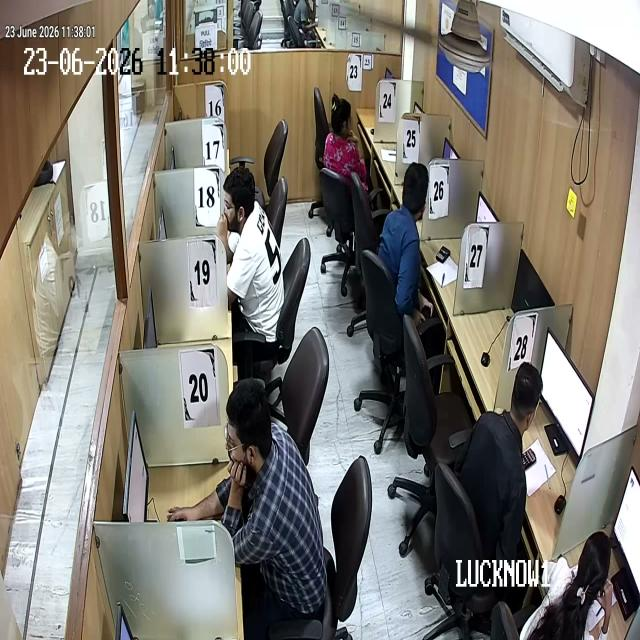phone: (422, 300, 436, 330)
